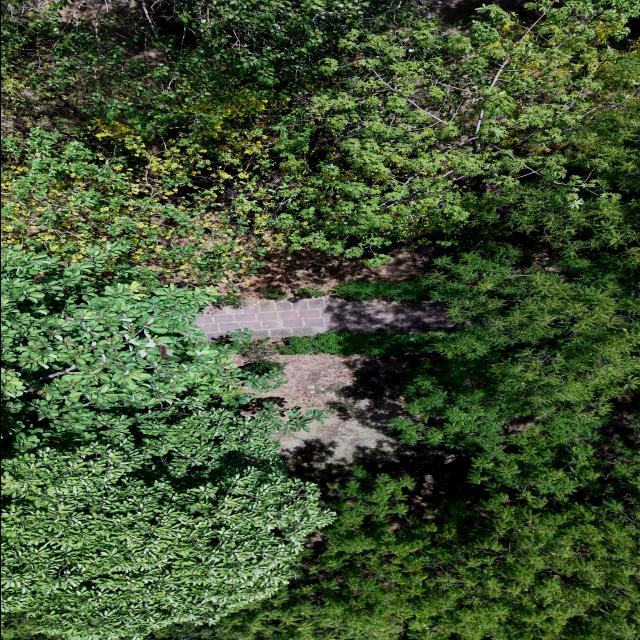DRY_AREA: (257, 354, 487, 516), (257, 353, 485, 515), (257, 354, 480, 516), (256, 353, 478, 515), (263, 354, 484, 515), (196, 245, 457, 337), (196, 244, 454, 337), (258, 354, 410, 465), (260, 353, 405, 466), (258, 354, 404, 464), (220, 238, 442, 298), (235, 246, 426, 297), (195, 296, 329, 337), (325, 297, 459, 332), (430, 0, 484, 23)
PATHWAYS: (195, 296, 457, 337)
VEGETATION_TREE: (1, 0, 639, 639), (284, 53, 638, 639), (3, 0, 638, 282), (219, 243, 639, 639), (1, 248, 332, 639), (284, 242, 639, 495), (213, 467, 639, 639)
